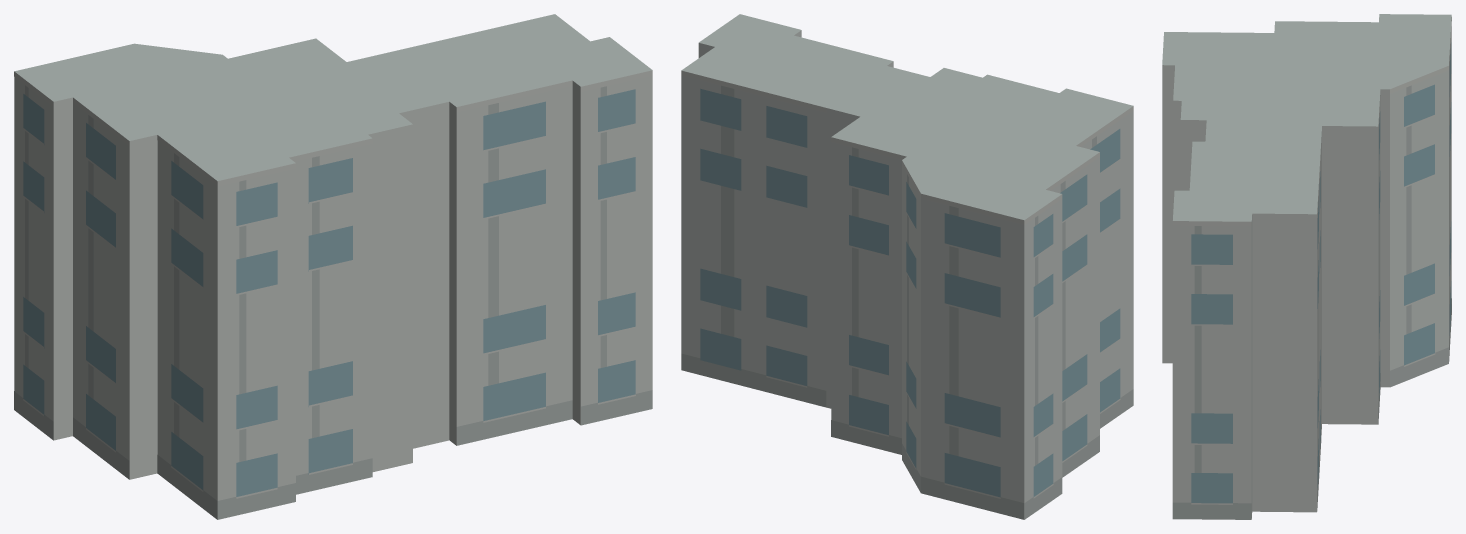
File: survey-upis-33026460.glb
3 views of the same model, side by side, from view 1: azimuth 30°, elevation 25°; view 2: azimuth 150°, elevation 25°; view 3: azimuth 270°, elevation 25° (orthographic). The views are drawn at different scales.
Parts seen in each view (by area): view 1: survey-upis-33026460.tmp; view 2: survey-upis-33026460.tmp; view 3: survey-upis-33026460.tmp.
Part boxes in pixels (x1,y1,x2,y2): survey-upis-33026460.tmp: (14, 14, 652, 519); survey-upis-33026460.tmp: (681, 14, 1133, 519); survey-upis-33026460.tmp: (1162, 14, 1451, 519).
Size of the model in its own units: 22.8 by 15.25 by 13.44.
